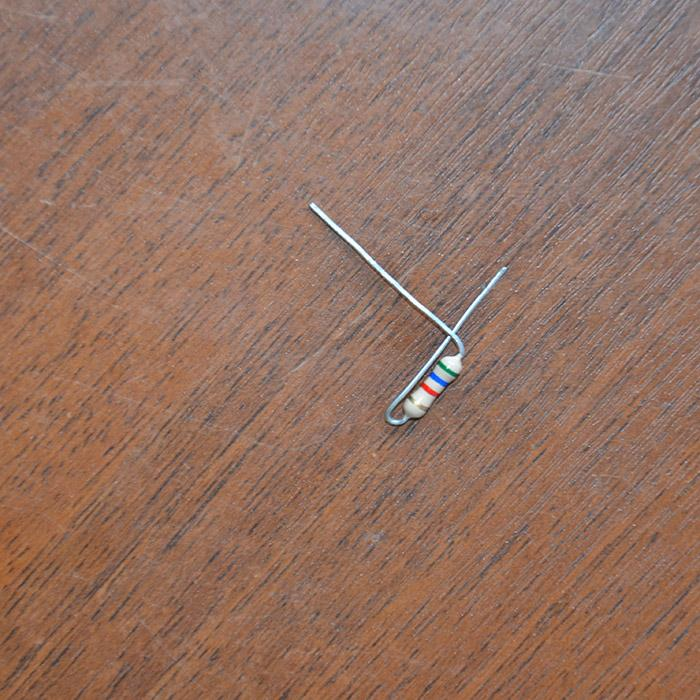resistor: (402, 352, 461, 419)
